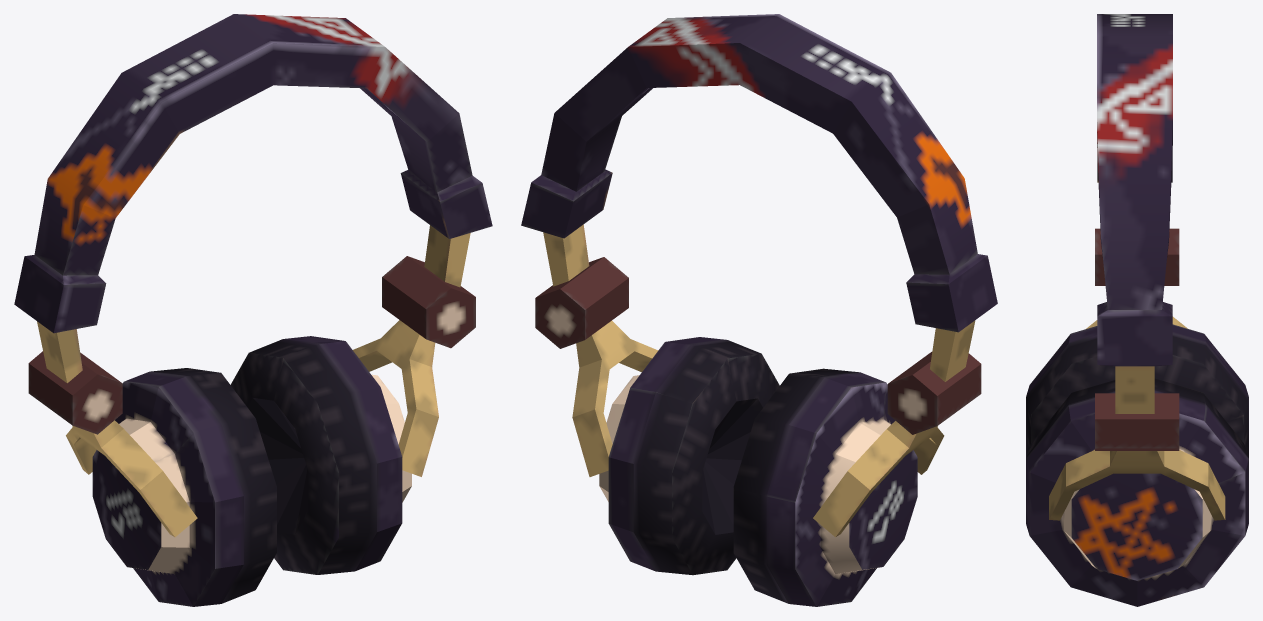
File: Headphones final.obj
The picture shows the model from 3 angles, left to right: view 1: azimuth 30°, elevation 25°; view 2: azimuth 150°, elevation 25°; view 3: azimuth 270°, elevation 25°; orthographic projection. The views are drawn at different scales.
Visible parts, largest first — view 1: polySurface2; view 2: polySurface2; view 3: polySurface2.
Boxes of the visible parts, <box> form: polySurface2: <box>14,14,492,606</box>; polySurface2: <box>521,14,997,606</box>; polySurface2: <box>1026,14,1248,606</box>.
Size of the model in its own units: 1.39 by 1.68 by 0.6403.
1 material, 1 textured.
